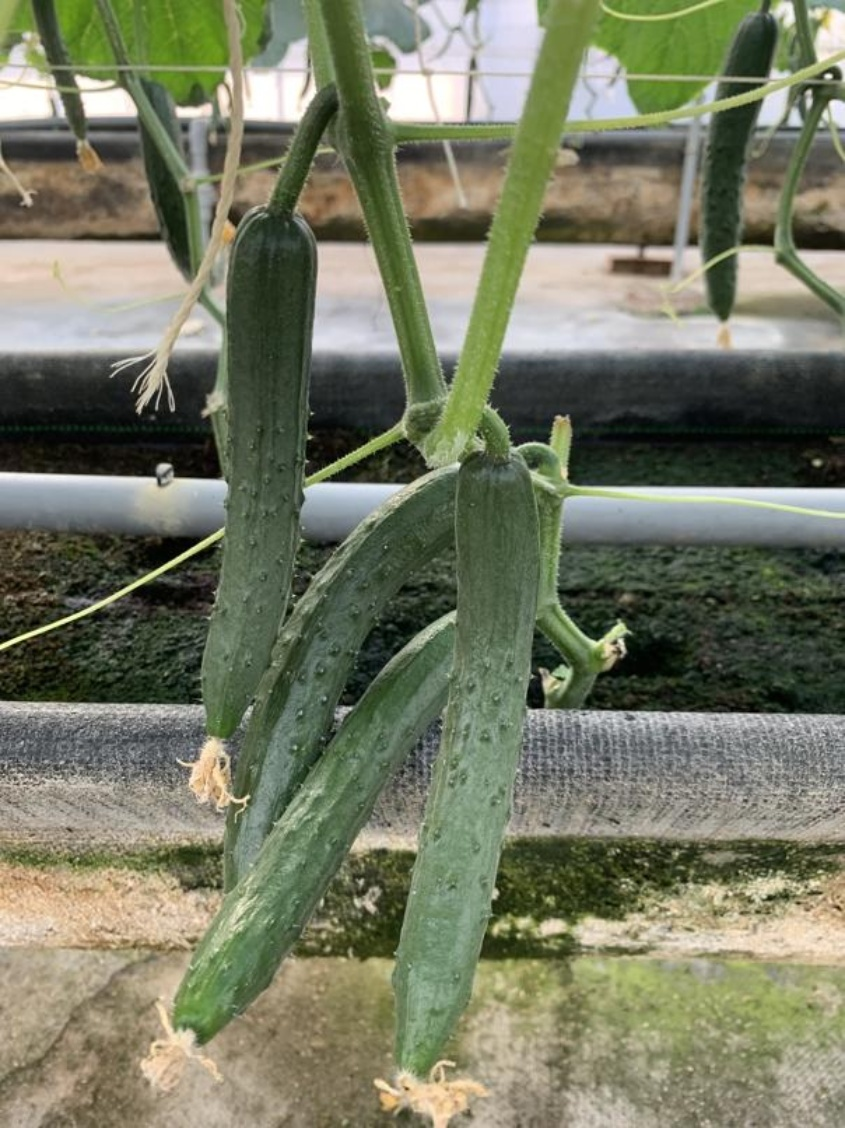mature: (167, 608, 460, 1049)
